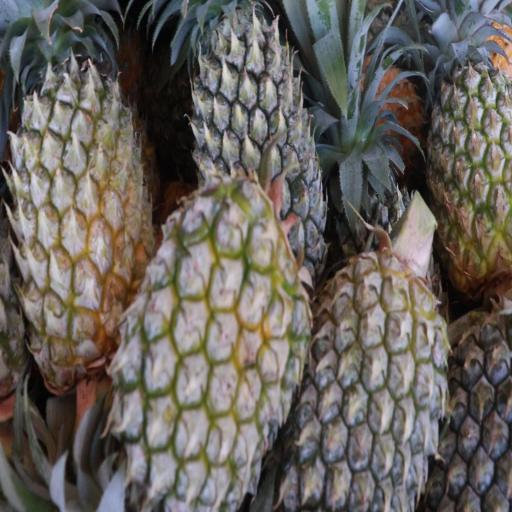------------------------------: (120, 186, 302, 509), (10, 0, 146, 367), (431, 34, 511, 278)
